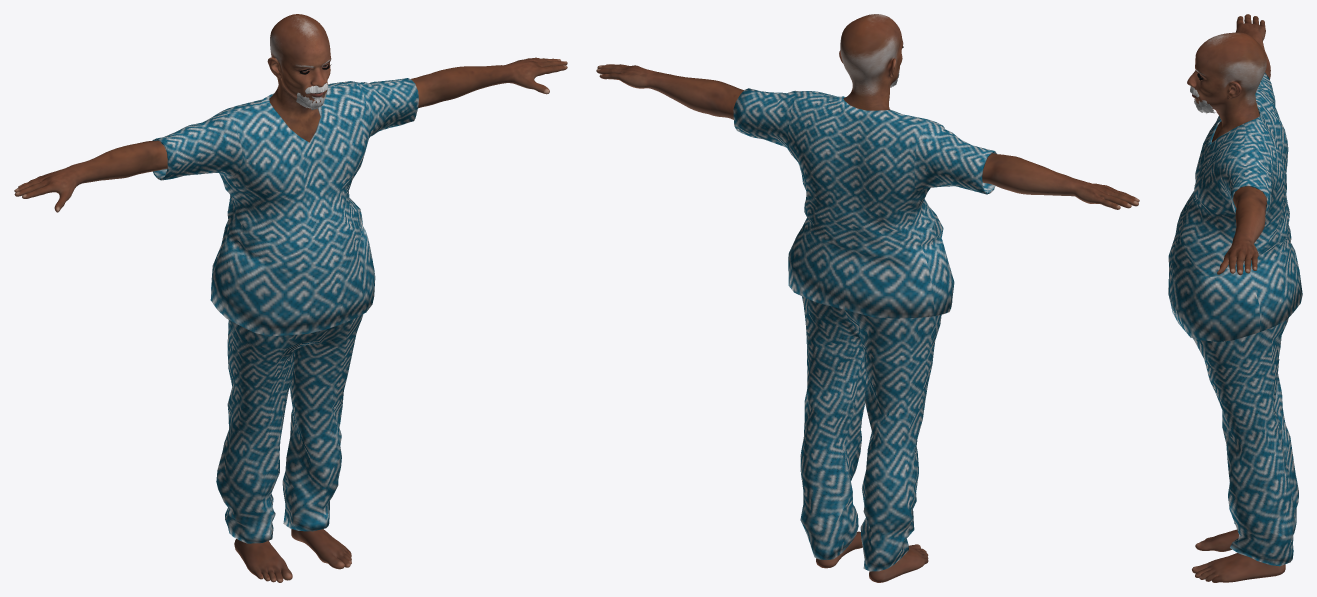
The model's file is BABA_STORIES.obj.
3 views of the same model, side by side, from view 1: azimuth 30°, elevation 25°; view 2: azimuth 150°, elevation 25°; view 3: azimuth 270°, elevation 25° (orthographic). The views are drawn at different scales.
Visible parts, largest first — view 1: Tops, Bottoms, Body; view 2: Tops, Bottoms, Body; view 3: Tops, Bottoms, Body.
Part boxes in pixels (box(x1,y1,x2,y2)): Tops: box(152, 78, 418, 336); Bottoms: box(216, 314, 363, 543); Body: box(14, 14, 567, 582); Tops: box(733, 88, 996, 318); Bottoms: box(800, 296, 941, 571); Body: box(596, 14, 1139, 582); Tops: box(1168, 72, 1302, 341); Bottoms: box(1193, 318, 1298, 566); Body: box(1187, 14, 1285, 582).
Size of the model in its own units: 182 by 173 by 39.68.
1 material, 1 textured.
